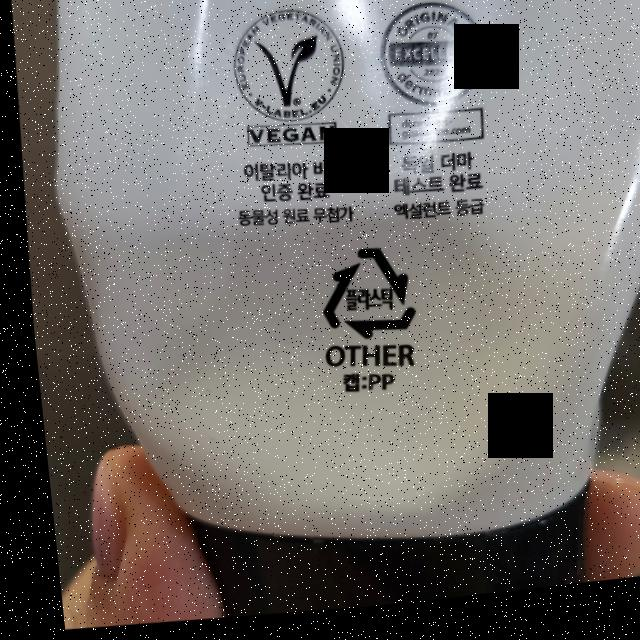Plastic: (303, 244, 415, 352)
